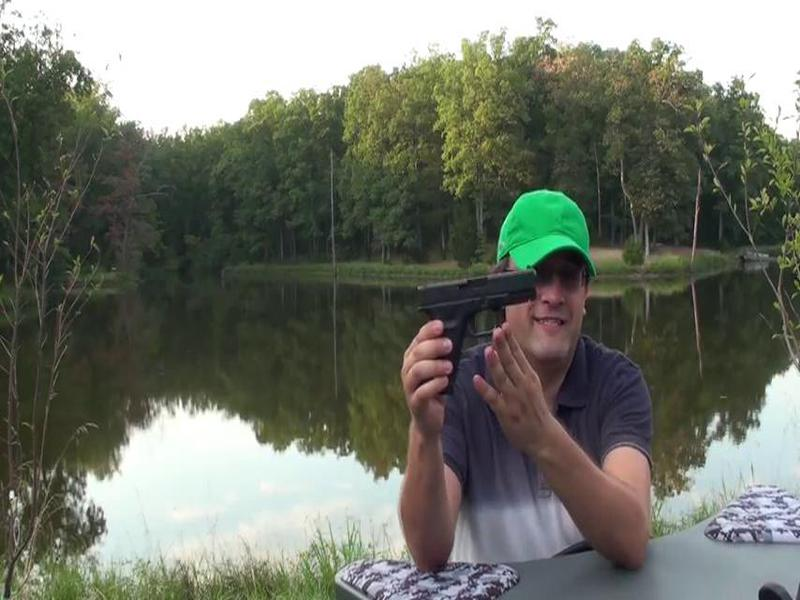Pistola: (402, 264, 544, 393)
